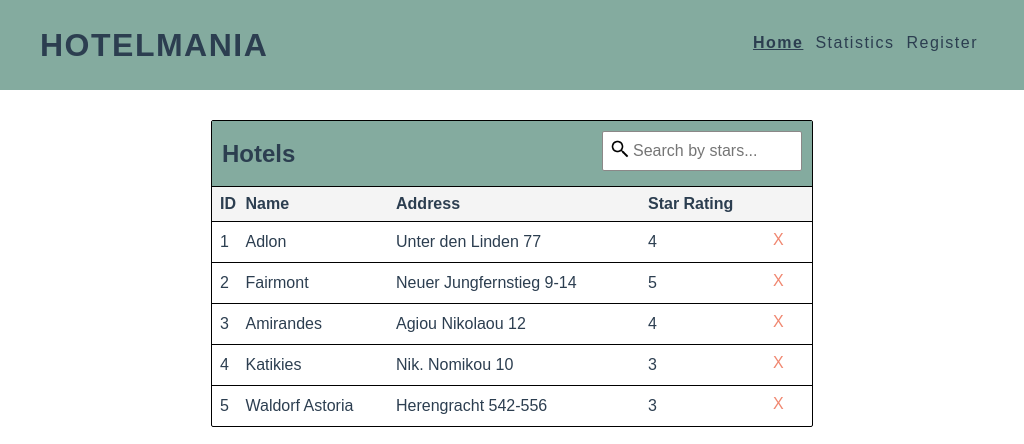
Test: Test Hotels Table › Test if delete button is working
Expected: the number of rows is 6, left=212, top=186, right=812, bottom=222; left=212, top=222, right=812, bottom=262; left=212, top=262, right=812, bottom=304; left=212, top=304, right=812, bottom=344; left=212, top=344, right=812, bottom=386; left=212, top=386, right=812, bottom=426
Click the button "X" in the row of "Adlon".
click(779, 242)  # box left=767, top=230, right=791, bottom=254
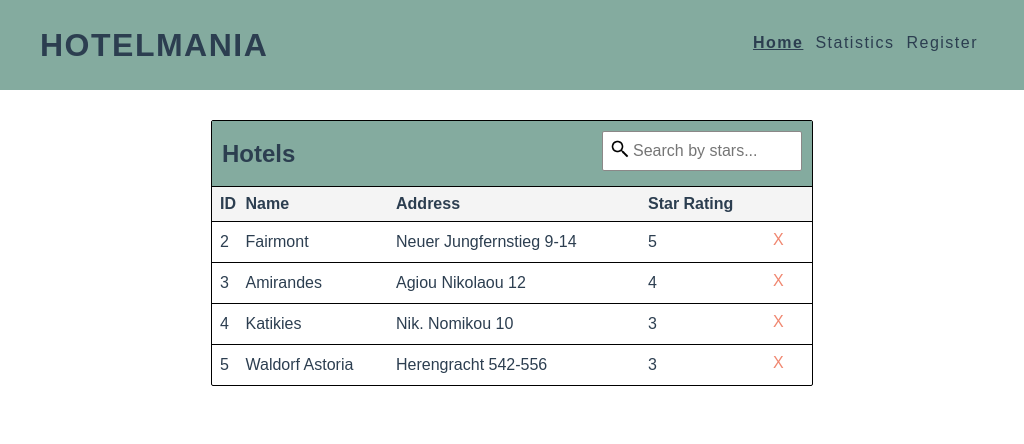
Click the button "X" in the row of "Fairmont".
click(779, 242)  # box left=767, top=230, right=791, bottom=254
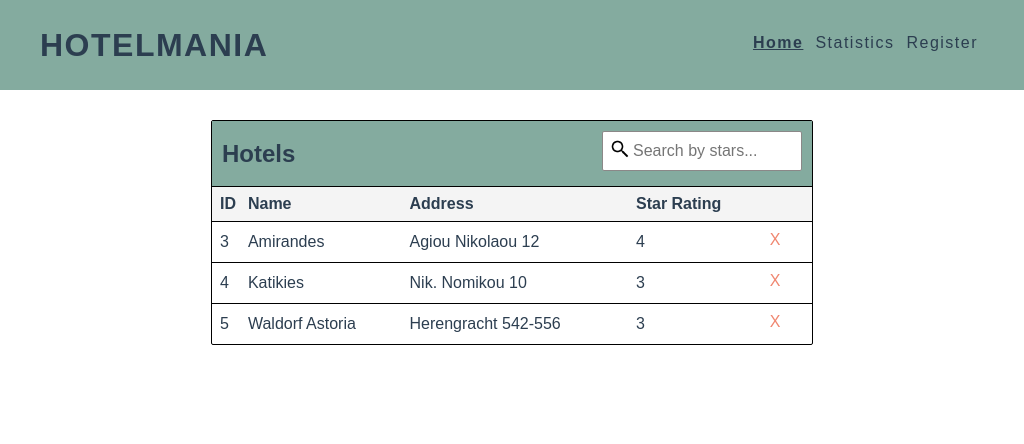
Click the button "X" in the row of "Amirandes".
click(776, 242)  # box left=764, top=230, right=788, bottom=254
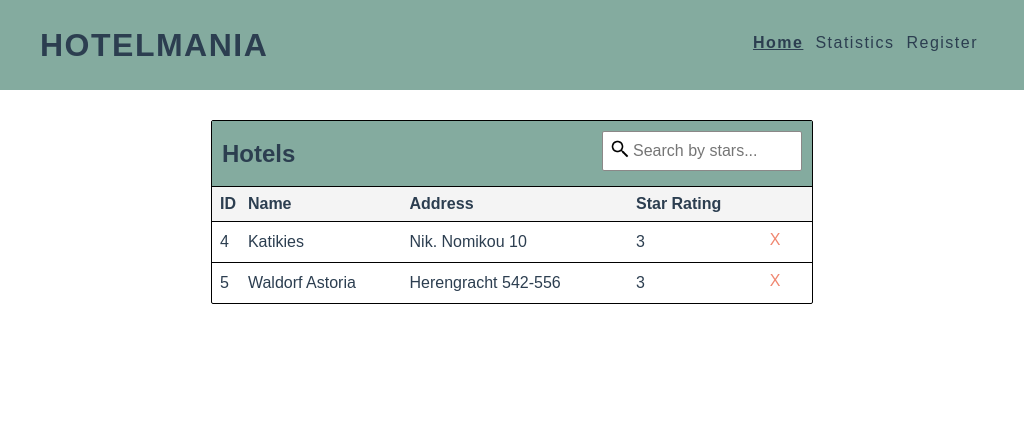
Click the button "X" in the row of "Katikies".
click(776, 242)  # box left=764, top=230, right=788, bottom=254
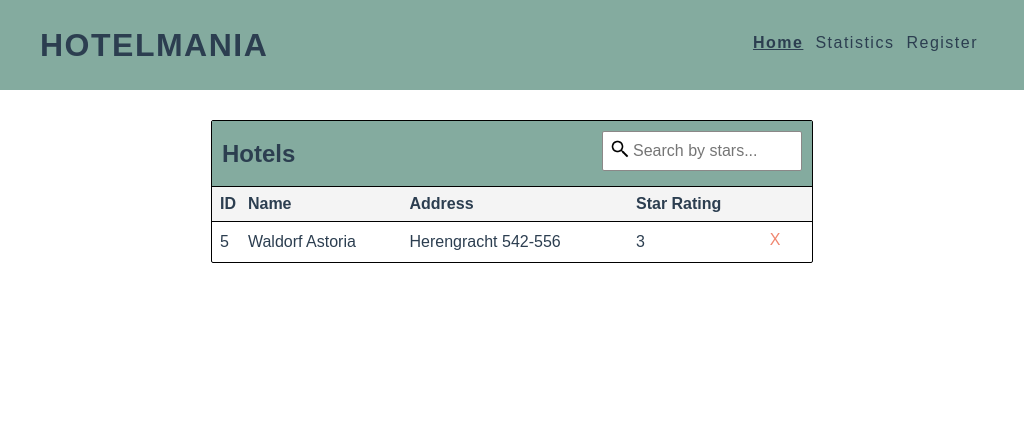
Click the button "X".
click(776, 242)  # box left=764, top=230, right=788, bottom=254
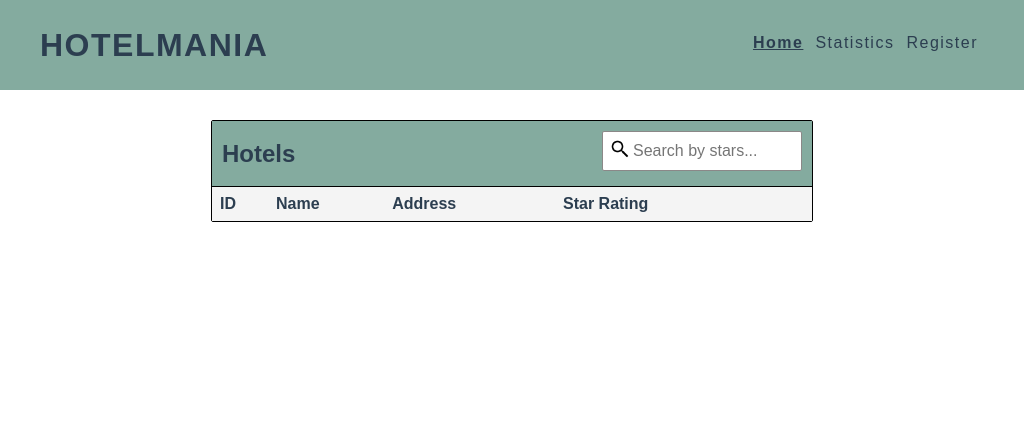
Now the number of rows is 1, box left=212, top=187, right=812, bottom=222
